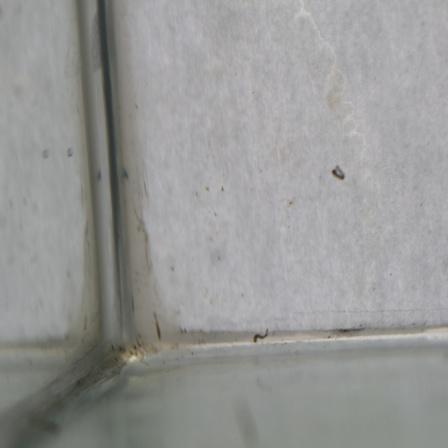Jentik-Nyamuk: (251, 324, 274, 347), (327, 161, 347, 184)
